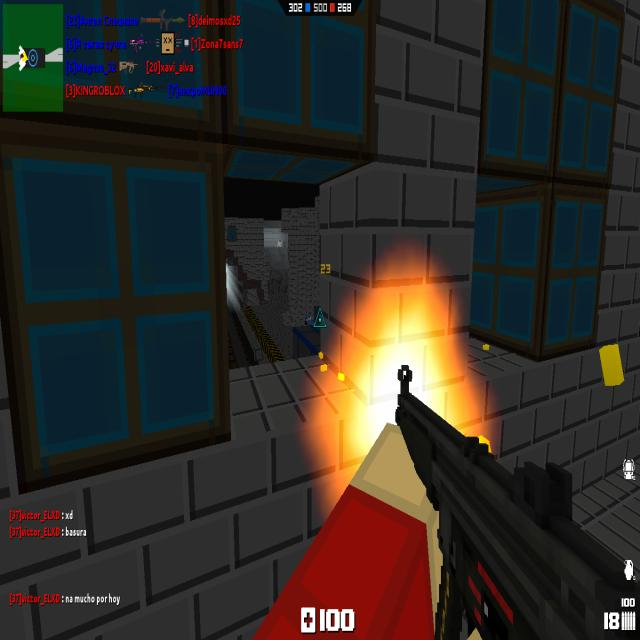enemy: (304, 312, 312, 326)
